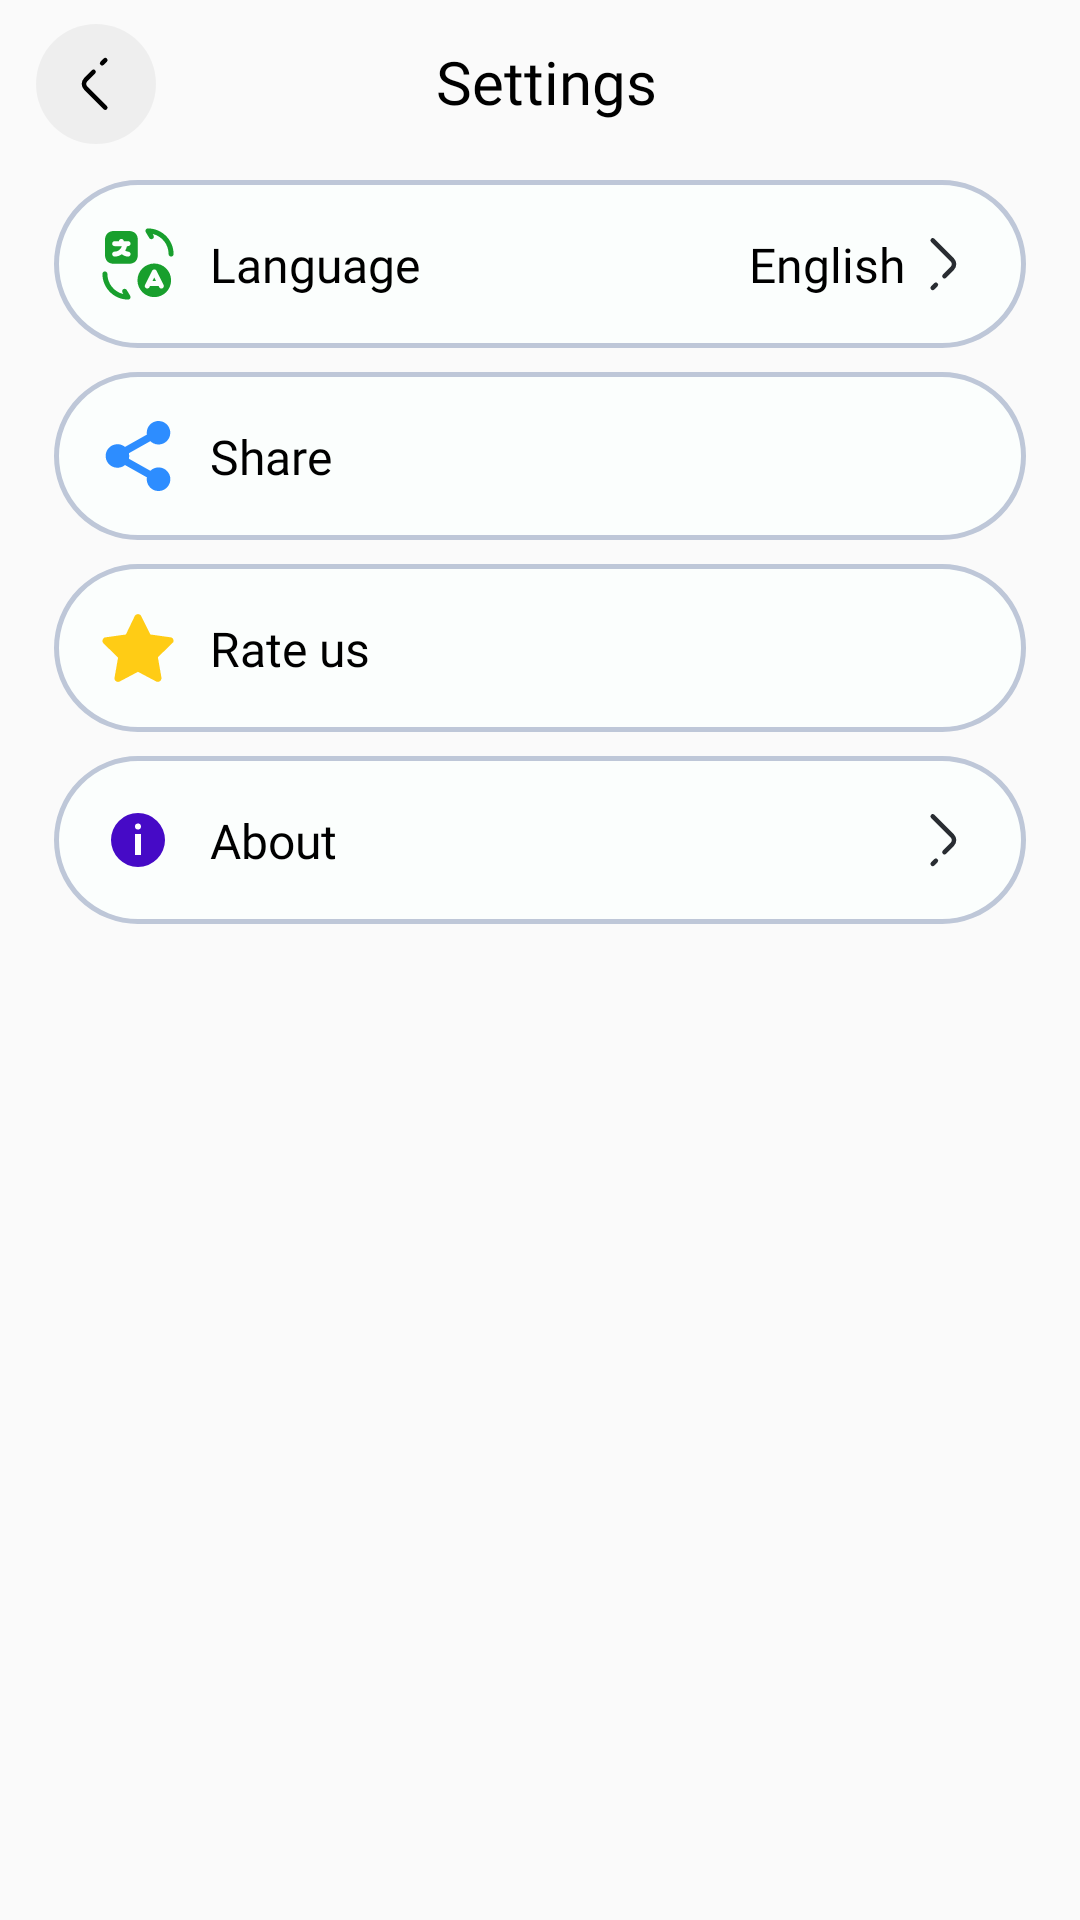

Icon bounding boxes for this 1080x1920 phone screenshot, format (x1, y1, x2, y2):
back: (36, 24, 156, 144)
